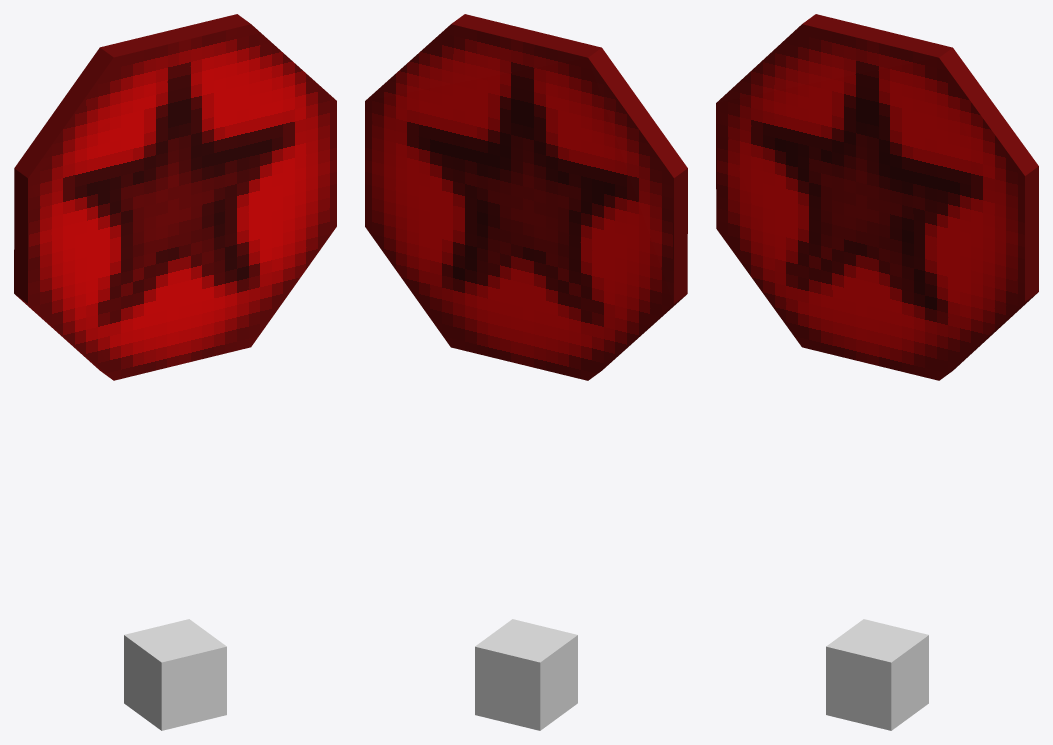
The model's file is redcoin.FBX.
3 views of the same model, side by side, from view 1: azimuth 30°, elevation 25°; view 2: azimuth 150°, elevation 25°; view 3: azimuth 330°, elevation 25° (orthographic).
Visible parts, largest first — view 1: RedCoin, Course Paths; view 2: RedCoin, Course Paths; view 3: RedCoin, Course Paths.
Boxes of the visible parts, left/top/right/bottom form: RedCoin: left=14, top=14, right=336, bottom=380; Course Paths: left=124, top=619, right=226, bottom=730; RedCoin: left=365, top=14, right=687, bottom=380; Course Paths: left=475, top=619, right=577, bottom=730; RedCoin: left=716, top=14, right=1038, bottom=380; Course Paths: left=826, top=619, right=928, bottom=730.
Size of the model in its own units: 180 by 375 by 38.1.
1 material, 1 textured.
